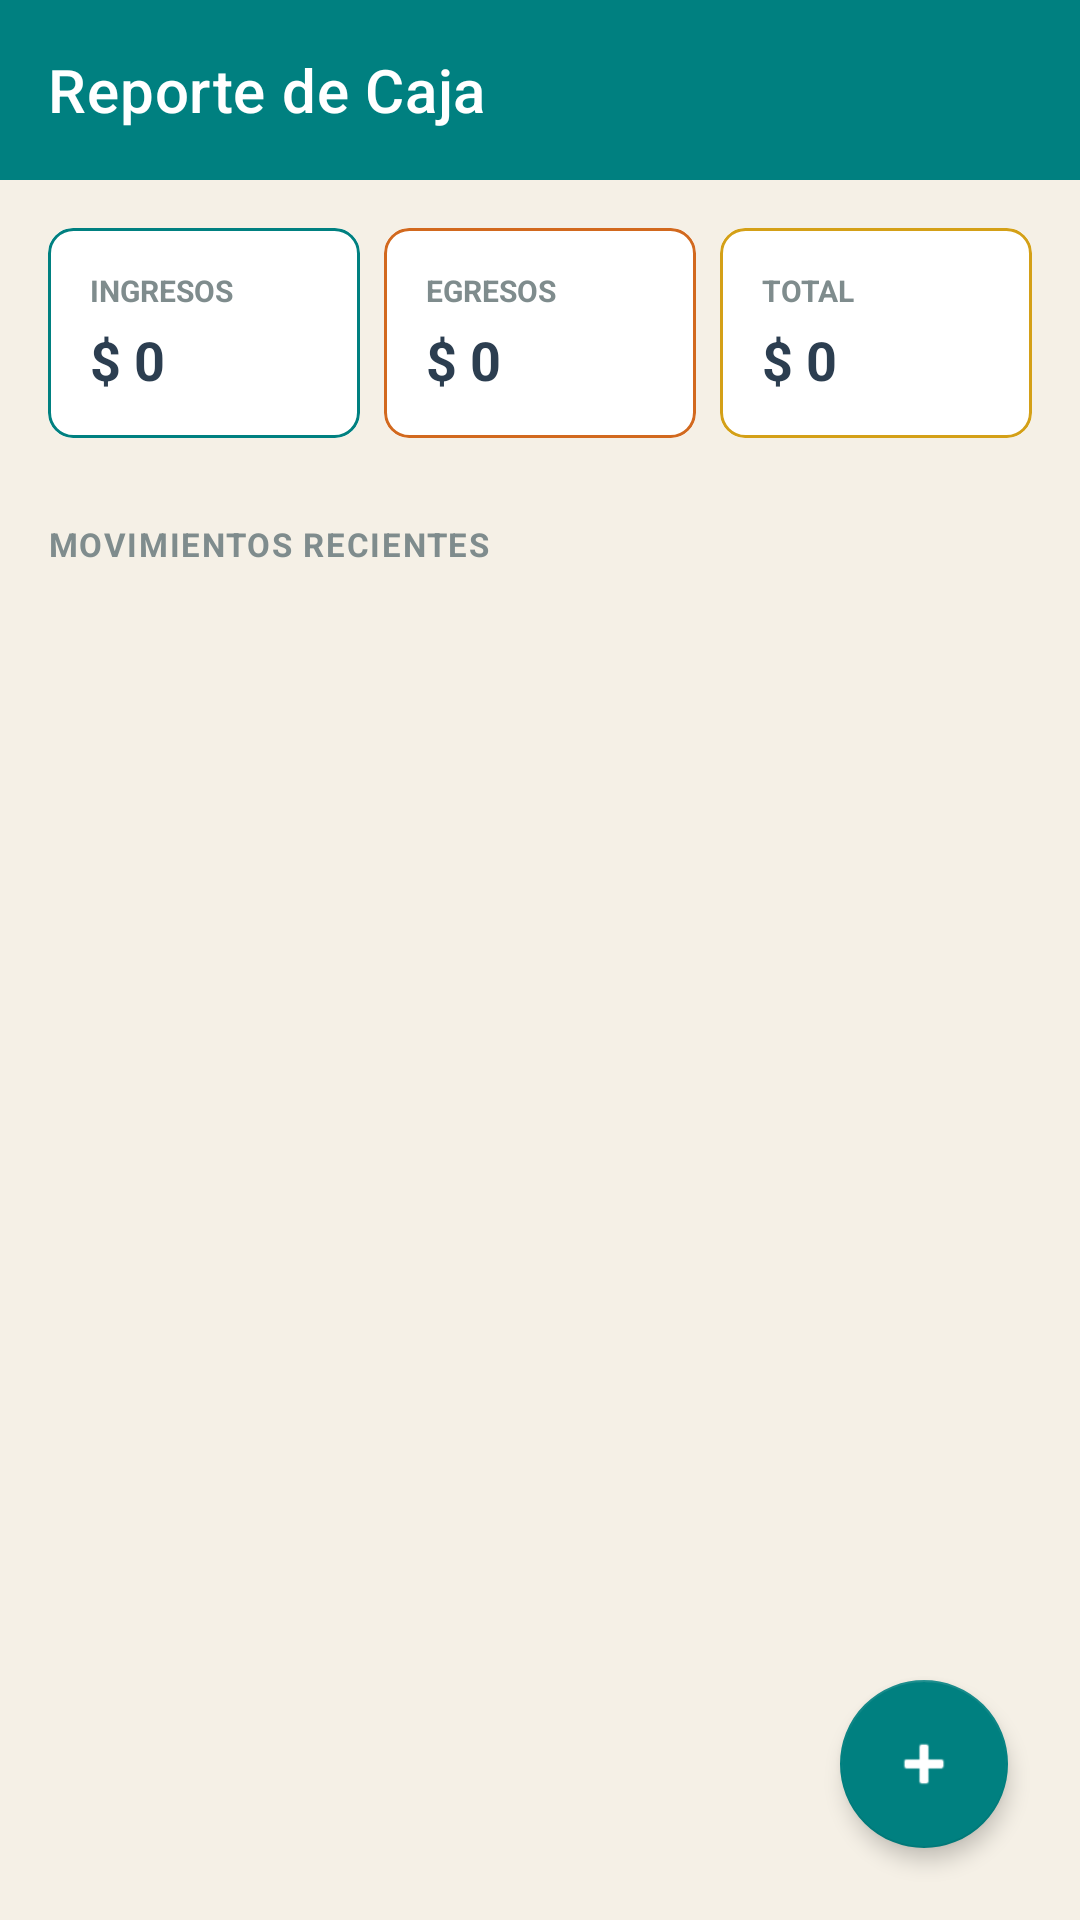

Locate icon controls on the screen. Image size 1080w x 1920h, boxes as (x1, y1, x2, y2).
Nuevo Movimiento: (840, 1680, 1008, 1848)
